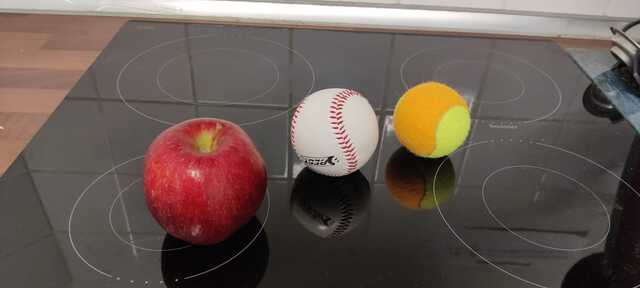013_apple: (141, 116, 271, 249)
055_baseball: (287, 84, 383, 179)
056_tennis_ball: (391, 77, 474, 161)
